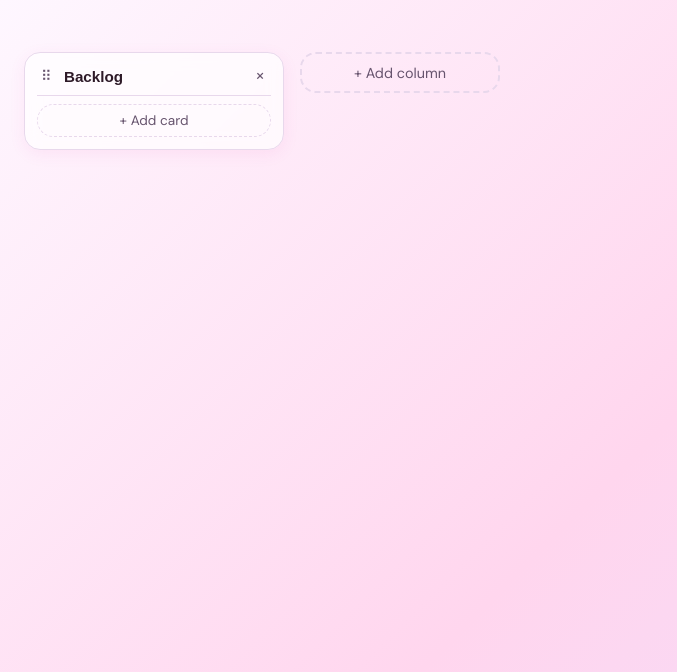
Test: drag ghost › uses the column name when dragging a column
The image size is (677, 672).
Step 1. Press the mouse on the button with class "handle" → coordinates (46, 76), box [41,67,52,85]
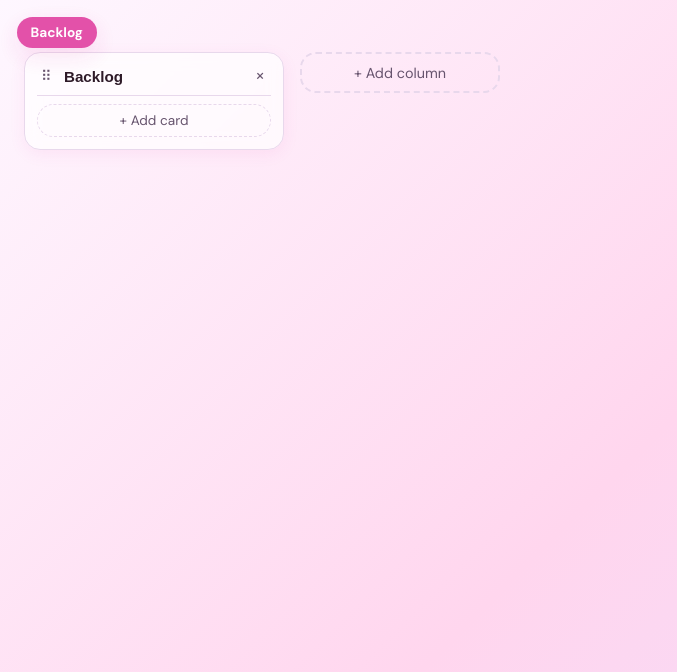
Check: the text with class "ghost" reads "Backlog", box [31,24,83,41]
